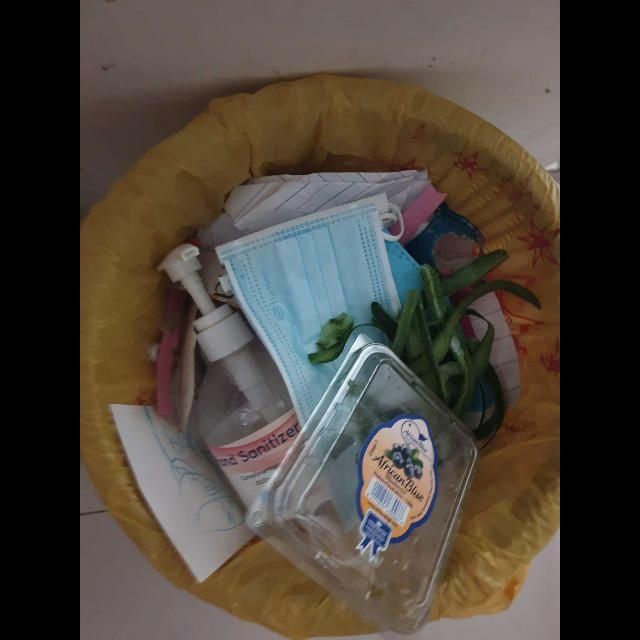paper: (110, 404, 256, 583), (223, 170, 432, 234)
plastic_bottle: (157, 243, 302, 513)
plastic_container: (245, 334, 479, 634)
